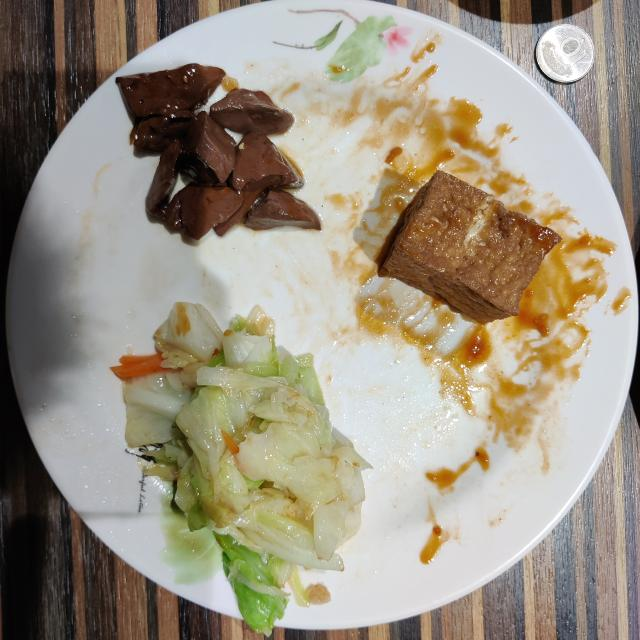cabbage: (124, 302, 370, 635)
coin: (536, 24, 595, 82)
egg tofu: (382, 170, 561, 322)
pig blood curd: (116, 64, 321, 240)
